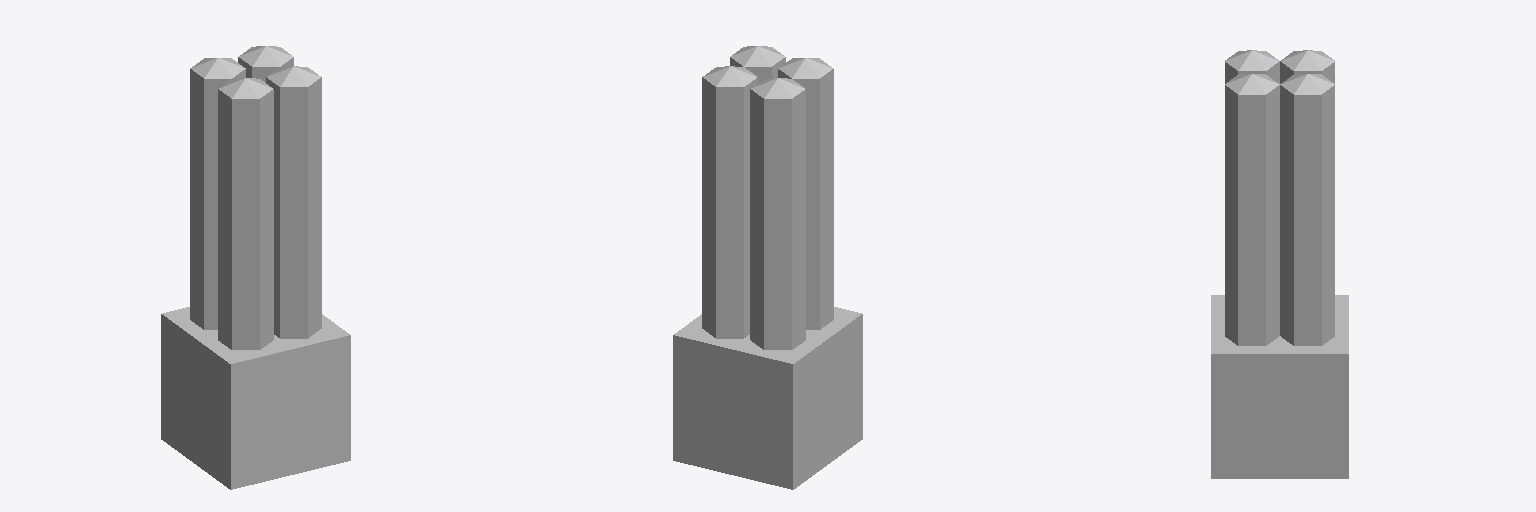
Rendered from gas_centrifuge.obj.
3 views of the same model, side by side, from view 1: azimuth 30°, elevation 25°; view 2: azimuth 150°, elevation 25°; view 3: azimuth 270°, elevation 25° (orthographic).
Parts seen in each view (by area): view 1: gas_centrifuge; view 2: gas_centrifuge; view 3: gas_centrifuge.
Boxes of the visible parts, x1,y1,x2,y2 form: gas_centrifuge: [161, 46, 350, 489]; gas_centrifuge: [673, 46, 862, 489]; gas_centrifuge: [1211, 50, 1348, 478].
Bounding box in the file's own units: 1 × 3.09 × 1.